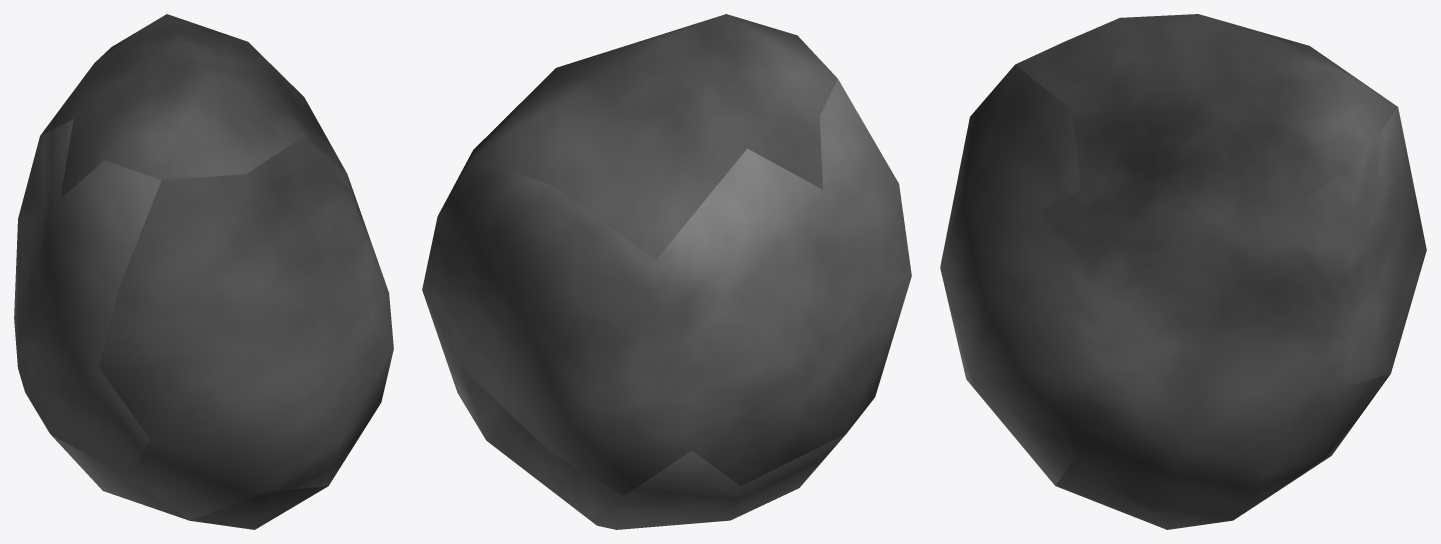
File: Stone1.fbx
3 views of the same model, side by side, from view 1: azimuth 30°, elevation 25°; view 2: azimuth 150°, elevation 25°; view 3: azimuth 270°, elevation 25° (orthographic). The views are drawn at different scales.
Parts seen in each view (by area): view 1: Stone; view 2: Stone; view 3: Stone.
Boxes of the visible parts, x1=… form: Stone: x1=14, y1=14, x2=393, y2=529; Stone: x1=422, y1=14, x2=911, y2=529; Stone: x1=940, y1=14, x2=1426, y2=529.
Bounding box in the file's own units: 63.85 × 83.87 × 76.01.
